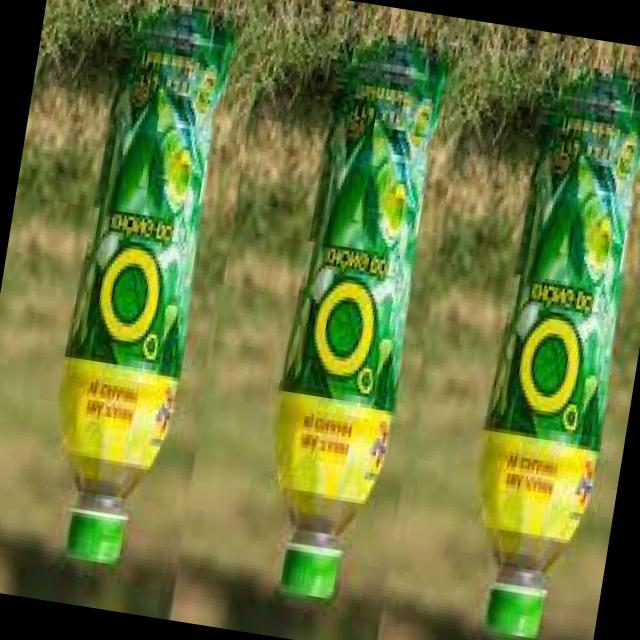tra xanh khong do: (240, 24, 460, 610), (33, 0, 247, 579), (447, 63, 640, 640)
